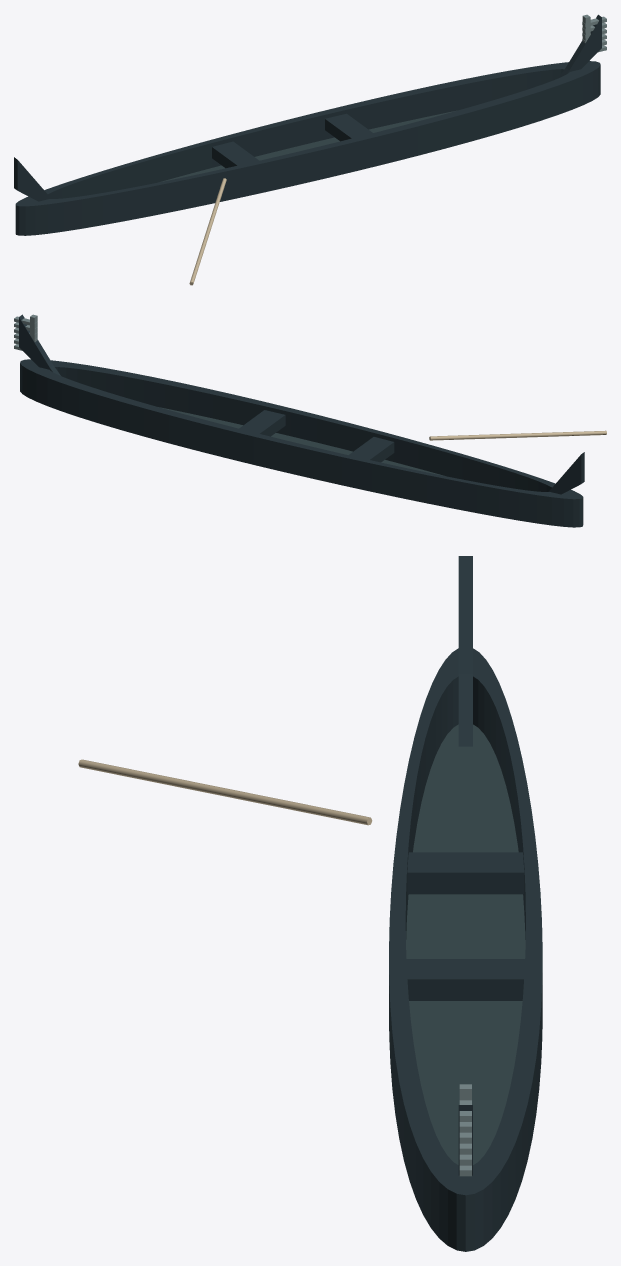
The model's file is gondola.glb.
The picture shows the model from 3 angles, top to bottom: view 1: azimuth 30°, elevation 25°; view 2: azimuth 150°, elevation 25°; view 3: azimuth 270°, elevation 25°; orthographic projection. The views are drawn at different scales.
Visible parts, largest first — view 1: open-curved-gondola-hull, raised-bow-stern, passenger-seats, hull-floor, single-oar; view 2: open-curved-gondola-hull, raised-bow-stern, passenger-seats, hull-floor, single-oar, ferro-teeth; view 3: open-curved-gondola-hull, hull-floor, passenger-seats, raised-bow-stern, single-oar, ferro-teeth.
Part boxes in pixels (<box>): open-curved-gondola-hull: <box>15,61,600,235</box>; raised-bow-stern: <box>14,14,601,201</box>; passenger-seats: <box>212,113,372,168</box>; hull-floor: <box>161,110,456,181</box>; single-oar: <box>189,178,226,285</box>; open-curved-gondola-hull: <box>20,359,583,527</box>; raised-bow-stern: <box>19,314,584,494</box>; passenger-seats: <box>239,410,394,462</box>; hull-floor: <box>160,407,444,475</box>; single-oar: <box>429,430,606,440</box>; ferro-teeth: <box>14,316,37,350</box>; open-curved-gondola-hull: <box>389,648,542,1251</box>; hull-floor: <box>406,724,525,1164</box>; passenger-seats: <box>406,852,524,1000</box>; raised-bow-stern: <box>458,556,472,1175</box>; single-oar: <box>78,759,372,825</box>; ferro-teeth: <box>459,1100,471,1176</box>.
Bounding box in the file's own units: 16 × 2.06 × 5.67.
